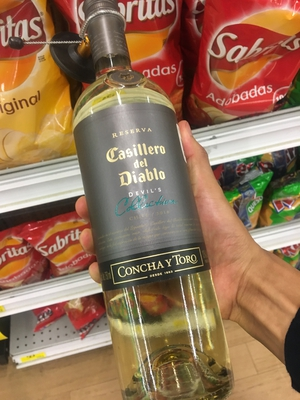casillero del diablo devils collection verde: (76, 5, 243, 400)
